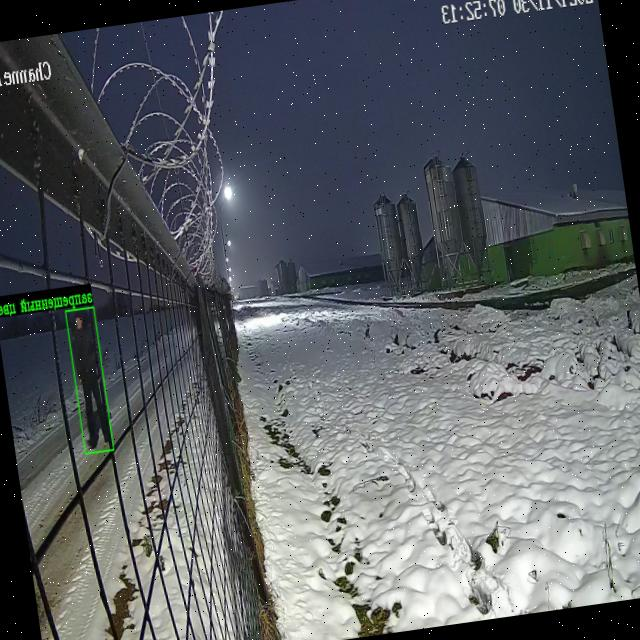Person: (67, 312, 104, 449)
